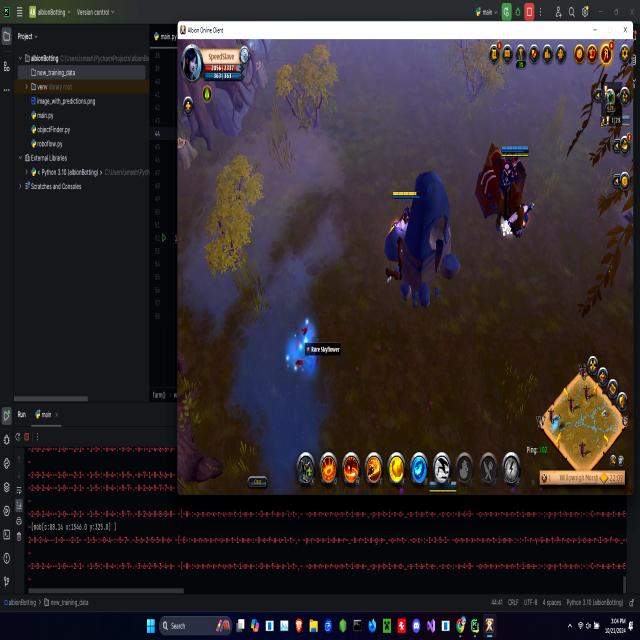red: (476, 134, 542, 257), (391, 188, 420, 255), (600, 109, 631, 132)
stone: (498, 208, 518, 247)
